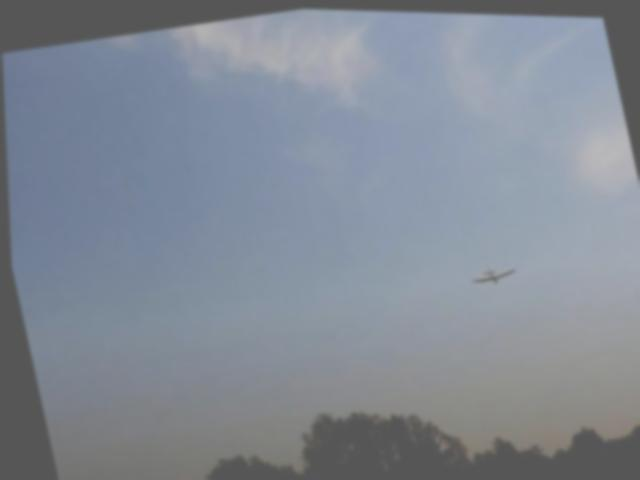iha: (458, 253, 518, 287)
